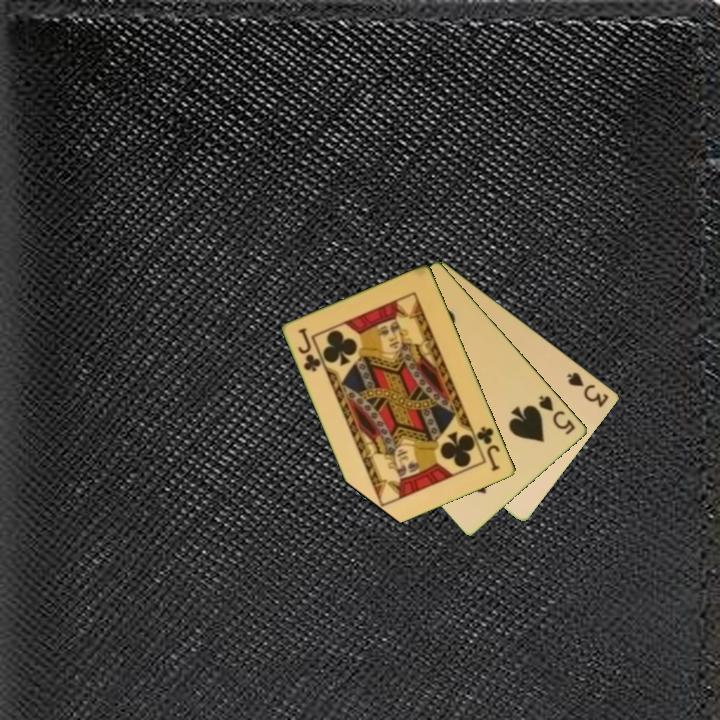3s: (564, 368, 612, 410)
5s: (536, 392, 579, 438)
Jc: (473, 423, 503, 474), (295, 324, 324, 375)
